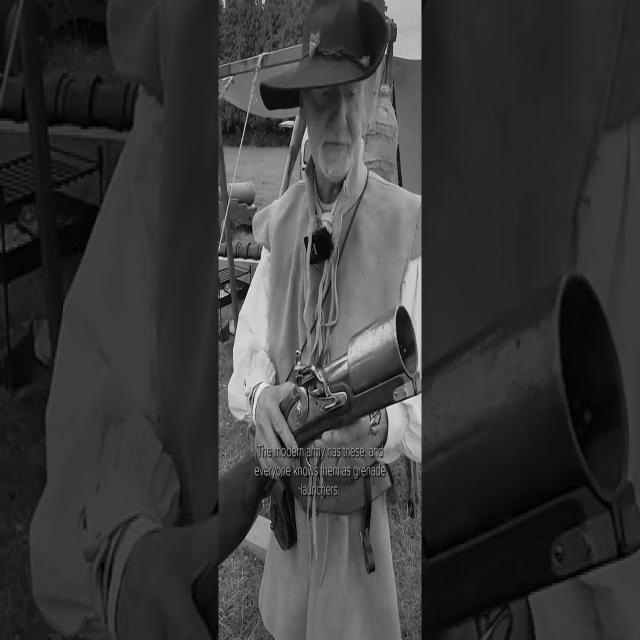Lancher: (239, 294, 413, 538)
